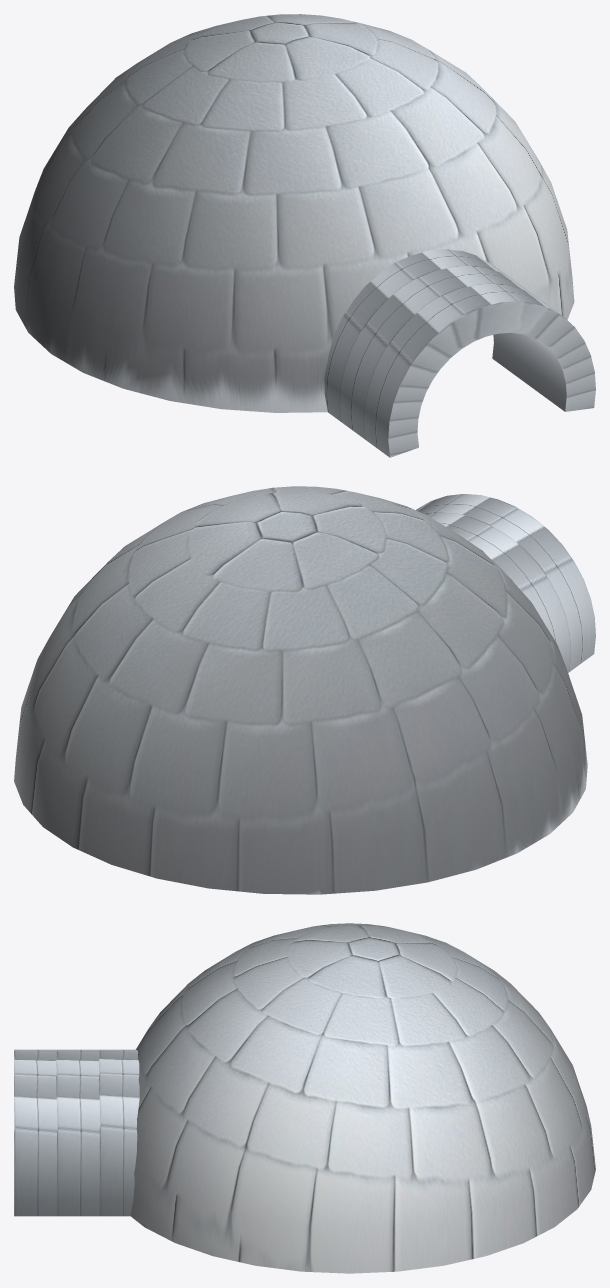
The model's file is igloo.FBX.
The picture shows the model from 3 angles, top to bottom: view 1: azimuth 30°, elevation 25°; view 2: azimuth 150°, elevation 25°; view 3: azimuth 270°, elevation 25°; orthographic projection. The views are drawn at different scales.
Parts seen in each view (by area): view 1: Sphere001, Arc001; view 2: Sphere001, Arc001; view 3: Sphere001, Arc001.
Part boxes in pixels (x1,y1,x2,y2): Sphere001: (14, 14, 574, 412); Arc001: (324, 249, 595, 457); Sphere001: (14, 486, 587, 894); Arc001: (416, 494, 595, 672); Sphere001: (130, 923, 595, 1273); Arc001: (14, 1049, 139, 1216).
Size of the model in its own units: 82.86 by 41.44 by 97.84.
